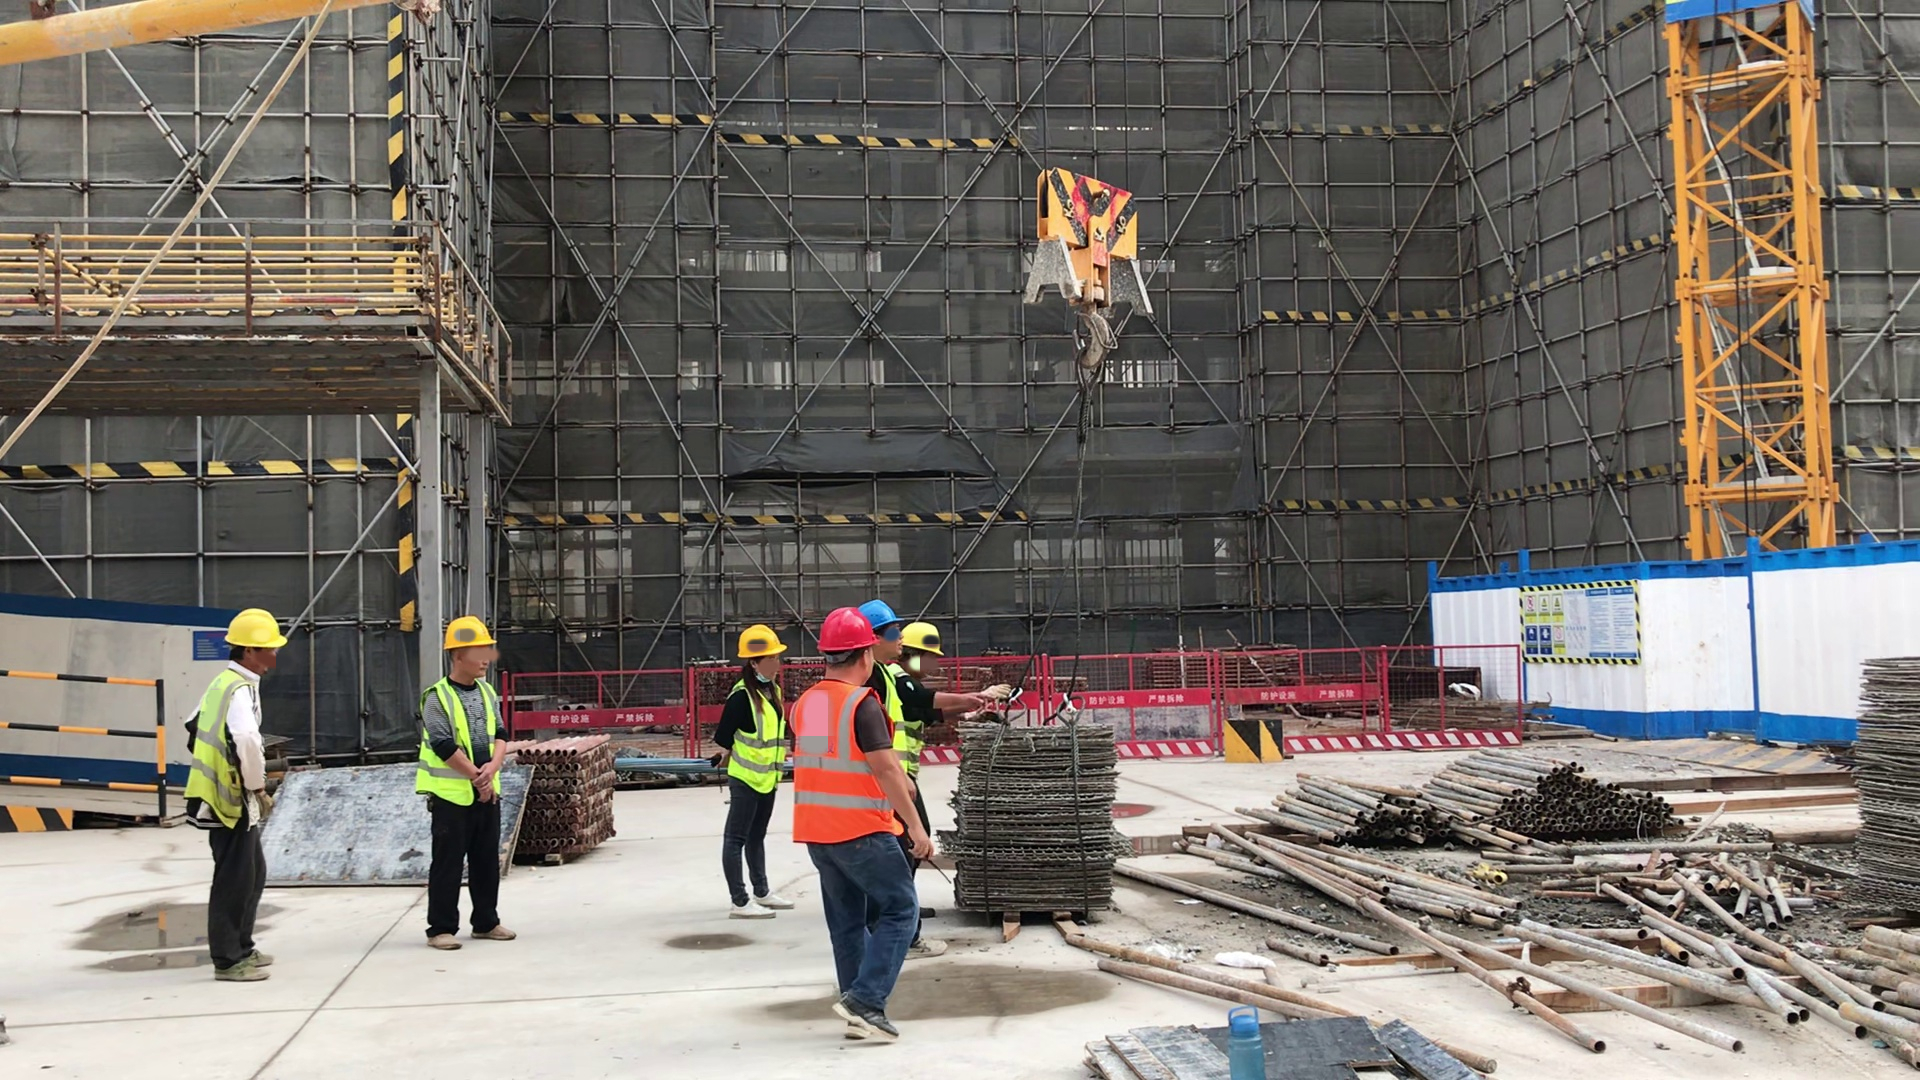fence: (1292, 643, 1524, 758), (4, 657, 169, 816), (1111, 641, 1217, 768), (526, 664, 696, 735)
helmet: (222, 610, 288, 651), (817, 609, 879, 652), (442, 616, 497, 651), (737, 624, 787, 657), (904, 623, 944, 658), (866, 600, 901, 627)
hook: (1018, 158, 1155, 374)
person: (791, 607, 934, 1013), (182, 604, 287, 985), (416, 614, 519, 952), (712, 623, 795, 921), (860, 596, 908, 779), (904, 620, 945, 833)
scaffold: (1456, 748, 1670, 845), (1244, 772, 1469, 860), (524, 730, 622, 861)
slogan: (1522, 586, 1637, 657)
vest: (796, 680, 905, 844), (419, 678, 504, 807), (191, 669, 253, 838), (732, 681, 785, 796), (897, 663, 925, 779)
